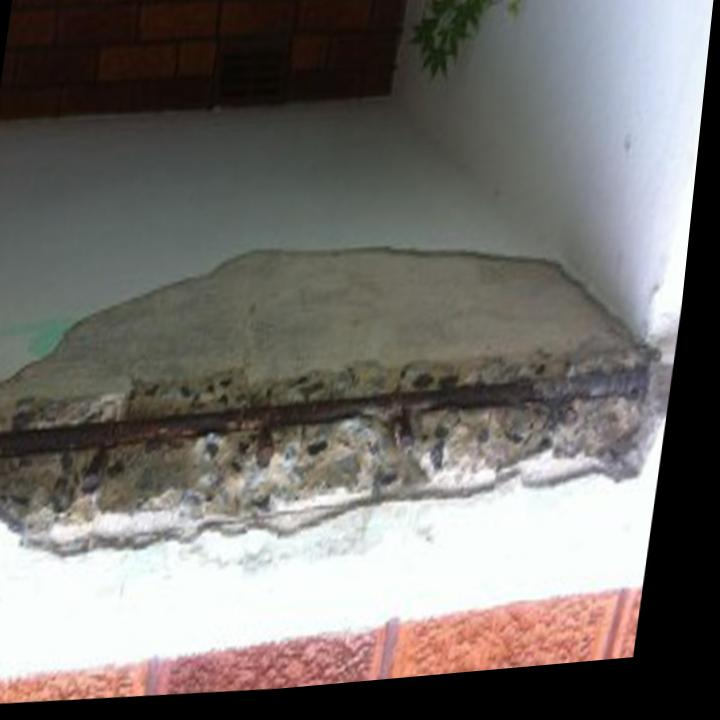damage: (0, 256, 682, 560)
